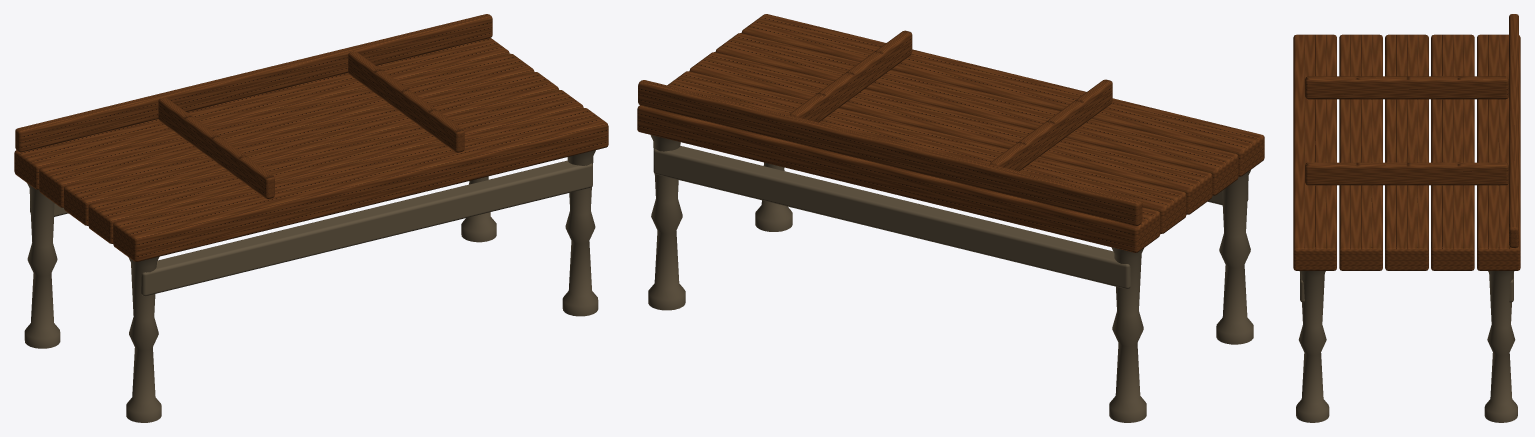
The model's file is undercity-sewers-and-thieves-den-loot-sorting-table-3124b089__27234.glb.
The picture shows the model from 3 angles, left to right: view 1: azimuth 30°, elevation 25°; view 2: azimuth 150°, elevation 25°; view 3: azimuth 270°, elevation 25°; orthographic projection. The views are drawn at different scales.
Visible parts, largest first — view 1: loot-sorting-table; view 2: loot-sorting-table; view 3: loot-sorting-table.
Part boxes in pixels (x1,y1,x2,y2): loot-sorting-table: [14, 14, 608, 422]; loot-sorting-table: [637, 14, 1264, 422]; loot-sorting-table: [1293, 14, 1520, 422].
Size of the model in its own units: 2 by 0.85 by 0.8919.
2 materials, 1 textured.
